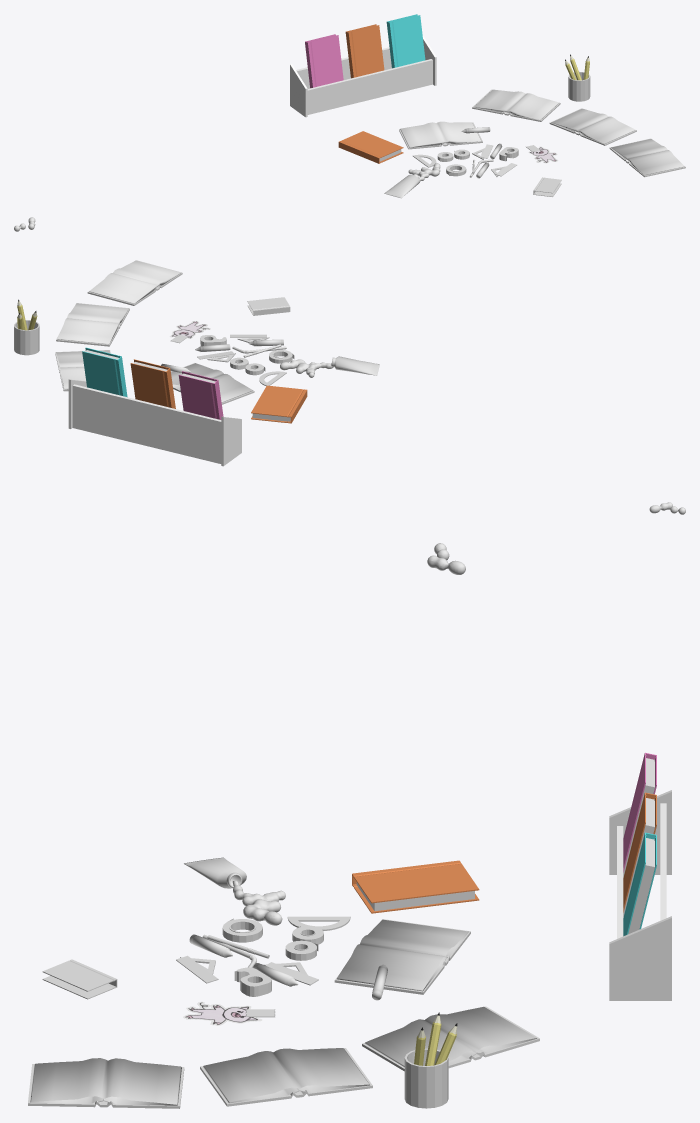
The model's file is kidapp5.glb.
3 renders of one model, top to bottom at view 1: azimuth 30°, elevation 25°; view 2: azimuth 150°, elevation 25°; view 3: azimuth 270°, elevation 25°, orthographic. The views are drawn at different scales.
Parts seen in each view (by area): view 1: Cube.001, Cube.032, Cube.033, Cube.028, Cube.034, Cube.004, Cube.007, Cube.010, Cube.011, Cube.012, Cube.030, Cube.019; view 2: Cube.001, Cube.034, Cube.033, Cube.004, Cube.007, Cube.010, Cube.011, Cube.028, Cube.012, Cube.032, Cube.008, Cube.030 (+1 smaller); view 3: Cube.001, Cube.033, Cube.034, Cube.028, Cube.032, Cube.011, Cube.008, Cube.012, Cube.030, Cube.019, Cube.031, Plane.003 (+4 smaller).
Part boxes in pixels (left/top/right/bottom): Cube.001: left=290, top=35, right=436, bottom=117; Cube.032: left=472, top=89, right=560, bottom=121; Cube.033: left=549, top=108, right=636, bottom=145; Cube.028: left=399, top=121, right=482, bottom=149; Cube.034: left=609, top=138, right=685, bottom=177; Cube.004: left=386, top=14, right=425, bottom=68; Cube.007: left=345, top=24, right=384, bottom=78; Cube.010: left=305, top=34, right=343, bottom=88; Cube.011: left=338, top=131, right=403, bottom=163; Cube.012: left=384, top=163, right=440, bottom=198; Cube.030: left=568, top=71, right=590, bottom=101; Cube.019: left=533, top=177, right=561, bottom=196; Cube.001: left=68, top=379, right=241, bottom=466; Cube.034: left=87, top=260, right=182, bottom=305; Cube.033: left=56, top=303, right=129, bottom=346; Cube.004: left=82, top=347, right=127, bottom=397; Cube.007: left=130, top=359, right=175, bottom=408; Cube.010: left=178, top=371, right=223, bottom=419; Cube.011: left=251, top=385, right=307, bottom=423; Cube.028: left=171, top=363, right=254, bottom=404; Cube.012: left=280, top=356, right=379, bottom=377; Cube.032: left=55, top=350, right=110, bottom=391; Cube.008: left=85, top=350, right=685, bottom=514; Cube.030: left=14, top=320, right=39, bottom=355; Cube.001: left=609, top=790, right=671, bottom=1000; Cube.033: left=200, top=1048, right=372, bottom=1106; Cube.034: left=28, top=1058, right=184, bottom=1108; Cube.028: left=334, top=919, right=470, bottom=994; Cube.032: left=362, top=1006, right=539, bottom=1071; Cube.011: left=352, top=860, right=479, bottom=913; Cube.008: left=356, top=543, right=654, bottom=933; Cube.012: left=184, top=857, right=285, bottom=925; Cube.030: left=404, top=1048, right=448, bottom=1108; Cube.019: left=42, top=959, right=117, bottom=999; Cube.031: left=414, top=1012, right=457, bottom=1065; Plane.003: left=183, top=1001, right=262, bottom=1025.
Size of the model in its own units: 42.02 by 4.8 by 20.51.
12 materials, 1 textured.
